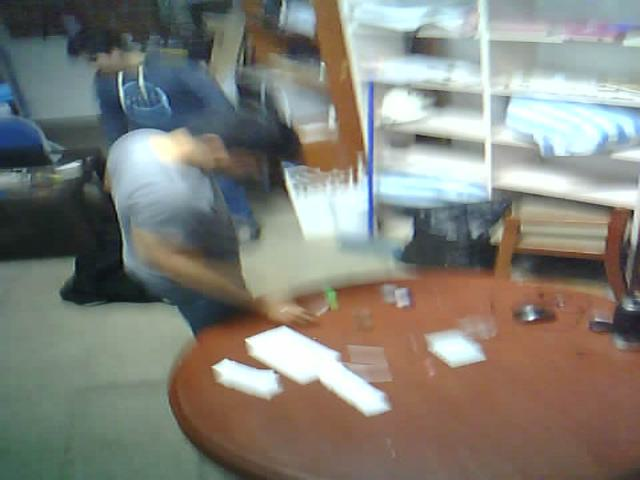person: (94, 115, 332, 362), (50, 9, 271, 252)
